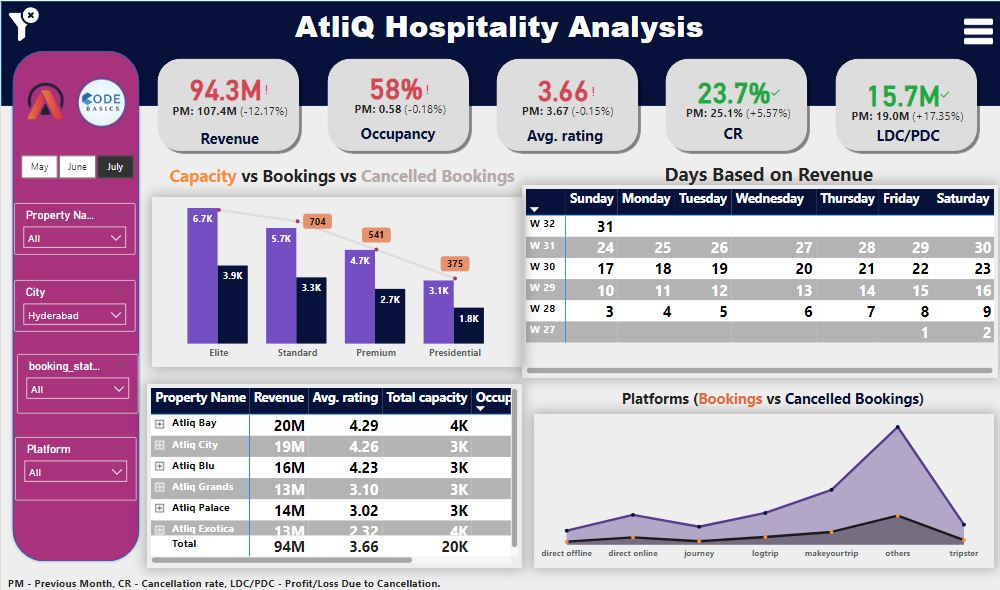

The page's visual inventory and layout, read from the dashboard file:
{"tool":"powerbi","page":{"name":"Monthly","canvas":[1280,760],"ordinal":1},"visuals":[{"type":"group","id":"g1","title":"visuals","box":[0,0,1280,761.1],"z":0},{"type":"textbox","box":[0,727.8,1063.8,32.8],"z":0,"group":"g1"},{"type":"shape","box":[0,0,1280,134.4],"z":1000,"group":"g1"},{"type":"image","box":[2,0,52.8,58.9],"z":1000},{"type":"shape","box":[840.8,65.9,194.5,131.9],"z":2000,"group":"g1"},{"type":"shape","box":[624.8,65.9,194.5,131.9],"z":3000,"group":"g1"},{"type":"textbox","box":[691,488.3,586.5,49.7],"z":3000},{"type":"shape","box":[192.9,65.9,194.5,131.9],"z":4000,"group":"g1"},{"type":"textbox","box":[198.7,203.2,471.7,47],"z":4000},{"type":"shape","box":[408.9,65.9,194.5,131.9],"z":5000,"group":"g1"},{"type":"shape","box":[11.5,59.3,168.2,657.8],"z":6000,"group":"g1"},{"type":"shape","box":[1056.7,65.9,194.5,131.9],"z":7000,"group":"g1"},{"type":"pivotTable","fields":{"Rows":["dim_date.week no"],"Values":["Sum(dim_date.DAY)"],"Columns":["Week_day.Weekday"]},"box":[664.2,234.6,606.9,246.1],"z":8000,"group":"g1"},{"type":"slicer","fields":{"Values":["dim_date.mmm yy.Variation.Date Hierarchy.Month"]},"box":[0,189.6,192.9,42.9],"z":9000,"group":"g1"},{"type":"kpi","title":"Revenue","fields":{"Indicator":["resource_measures.revenue"],"TrendLine":["dim_date.date.Variation.Date Hierarchy.Month"],"Goal":["resource_measures.revenue LM"]},"box":[204.4,92.3,176.4,62.6],"z":10000,"group":"g1"},{"type":"kpi","fields":{"Indicator":["resource_measures.Occupancy %"],"TrendLine":["dim_date.date.Variation.Date Hierarchy.Month"],"Goal":["resource_measures.Occupancy % LM"]},"box":[423.7,89,171.5,65.9],"z":11000,"group":"g1"},{"type":"kpi","fields":{"Goal":["resource_measures.cancellation rate LM"],"TrendLine":["dim_date.date.Variation.Date Hierarchy.Month"],"Indicator":["resource_measures.CR"]},"box":[852.3,90.7,174.8,72.5],"z":12000,"group":"g1"},{"type":"kpi","fields":{"Indicator":["resource_measures.LDC"],"Goal":["resource_measures.LDC LM"],"TrendLine":["dim_date.date.Variation.Date Hierarchy.Month"]},"box":[1068.3,89,174.8,80.8],"z":13000,"group":"g1"},{"type":"kpi","title":"Avg. rating ","fields":{"Indicator":["resource_measures.Avg. rating"],"TrendLine":["dim_date.date.Variation.Date Hierarchy.Month"],"Goal":["resource_measures.avg.rating LM"]},"box":[631.4,92.3,183,65.9],"z":14000,"group":"g1"},{"type":"textbox","box":[1083.1,153.3,145.1,46.2],"z":15000,"group":"g1"},{"type":"textbox","box":[860.6,150,145.1,44.5],"z":16000,"group":"g1"},{"type":"textbox","box":[646.2,153.3,145.1,44.5],"z":17000,"group":"g1"},{"type":"textbox","box":[433.6,150,145.1,44.5],"z":18000,"group":"g1"},{"type":"textbox","box":[217.6,156.6,146.7,37.9],"z":19000,"group":"g1"},{"type":"textbox","box":[1.9,0,1278.1,65.6],"z":20000,"group":"g1"},{"type":"image","title":"three dot menu","box":[1213.7,15.1,64.4,47.3],"z":21000,"group":"g1"},{"type":"slicer","fields":{"Values":["dim_hotels.property_name"]},"box":[16.5,257.2,155,65.9],"z":22000,"group":"g1"},{"type":"slicer","fields":{"Values":["dim_hotels.city"]},"box":[16.5,356.1,155,65.9],"z":23000,"group":"g1"},{"type":"slicer","fields":{"Values":["fact_bookings.booking_status"]},"box":[19.8,450.1,155,75.8],"z":24000,"group":"g1"},{"type":"slicer","fields":{"Values":["fact_bookings.booking_platform"]},"box":[18.1,555.6,155,80.8],"z":25000,"group":"g1"},{"type":"image","title":"atliq","box":[15.1,90.4,77.6,73.8],"z":26000,"group":"g1"},{"type":"image","title":"codebasics","box":[85.2,90.4,85.2,77.6],"z":27000,"group":"g1"},{"type":"lineClusteredColumnComboChart","title":"Capacity vs Bookings vs Cancelled Bookings","fields":{"Category":["dim_rooms.room_class"],"Y":["resource_measures.Total capacity","resource_measures.Total sucessful bookings"],"Y2":["resource_measures.Total cancelled bookings"]},"box":[192.6,250.2,471.7,216.9],"z":28000,"group":"g1"},{"type":"areaChart","fields":{"Category":["fact_bookings.booking_platform"],"Y":["resource_measures.Total bookings","resource_measures.Total cancelled bookings"]},"box":[679.4,526.3,586.9,195.6],"z":29000,"group":"g1"},{"type":"pivotTable","fields":{"Rows":["dim_hotels.property_name","dim_hotels.city"],"Values":["resource_measures.revenue","resource_measures.Avg. rating","resource_measures.Total capacity","resource_measures.Occupancy %","resource_measures.CR"]},"box":[186.3,488,478.1,234.1],"z":30000,"group":"g1"},{"type":"textbox","box":[679.2,199.5,598.4,49.5],"z":31000,"group":"g1"}]}

Visuals, with their boxes in screenshot pixels (x1, y1, x2, y2), scaled from the page's 1280x760 canvas onto the 1000x590 screenshot:
"visuals" group: x1=0, y1=0, x2=999, y2=589
textbox: x1=0, y1=565, x2=831, y2=589
shape: x1=0, y1=0, x2=999, y2=104
image: x1=2, y1=0, x2=43, y2=46
shape: x1=657, y1=51, x2=809, y2=154
shape: x1=488, y1=51, x2=640, y2=154
textbox: x1=540, y1=379, x2=998, y2=418
shape: x1=151, y1=51, x2=303, y2=154
textbox: x1=155, y1=158, x2=524, y2=194
shape: x1=319, y1=51, x2=471, y2=154
shape: x1=9, y1=46, x2=140, y2=557
shape: x1=826, y1=51, x2=978, y2=154
pivotTable - dim_date.week no x Sum(dim_date.DAY): x1=519, y1=182, x2=993, y2=373
slicer - dim_date.mmm yy.Variation.Date Hierarchy.Month: x1=0, y1=147, x2=151, y2=180
"Revenue" kpi: x1=160, y1=72, x2=298, y2=120
kpi - resource_measures.Occupancy % x dim_date.date.Variation.Date Hierarchy.Month: x1=331, y1=69, x2=465, y2=120
kpi - resource_measures.cancellation rate LM x dim_date.date.Variation.Date Hierarchy.Month: x1=666, y1=70, x2=802, y2=127
kpi - resource_measures.LDC x resource_measures.LDC LM: x1=835, y1=69, x2=971, y2=132
"Avg. rating " kpi: x1=493, y1=72, x2=636, y2=123
textbox: x1=846, y1=119, x2=960, y2=155
textbox: x1=672, y1=116, x2=786, y2=151
textbox: x1=505, y1=119, x2=618, y2=154
textbox: x1=339, y1=116, x2=452, y2=151
textbox: x1=170, y1=122, x2=285, y2=151
textbox: x1=1, y1=0, x2=999, y2=51
"three dot menu" image: x1=948, y1=12, x2=999, y2=48
slicer - dim_hotels.property_name: x1=13, y1=200, x2=134, y2=251
slicer - dim_hotels.city: x1=13, y1=276, x2=134, y2=328
slicer - fact_bookings.booking_status: x1=15, y1=349, x2=137, y2=408
slicer - fact_bookings.booking_platform: x1=14, y1=431, x2=135, y2=494
"atliq" image: x1=12, y1=70, x2=72, y2=127
"codebasics" image: x1=67, y1=70, x2=133, y2=130
"Capacity vs Bookings vs Cancelled Bookings" lineClusteredColumnComboChart: x1=150, y1=194, x2=519, y2=363
areaChart - fact_bookings.booking_platform x resource_measures.Total bookings: x1=531, y1=409, x2=989, y2=560
pivotTable - dim_hotels.property_name x dim_hotels.city: x1=146, y1=379, x2=519, y2=561
textbox: x1=531, y1=155, x2=998, y2=193
